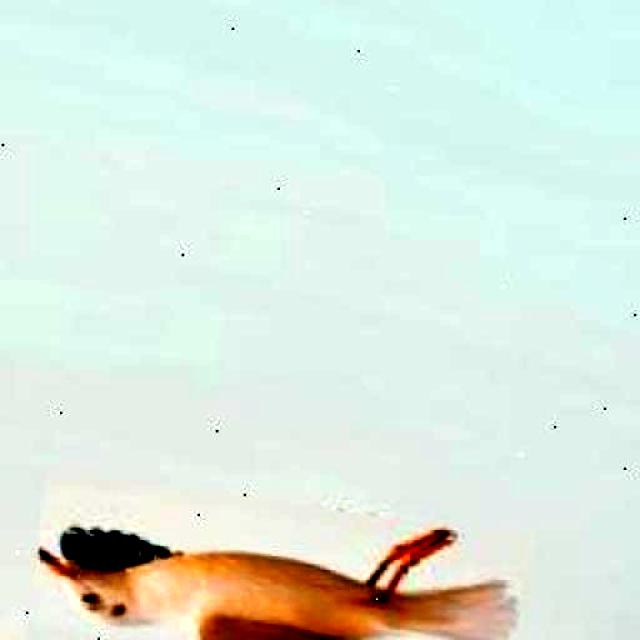airplane: (12, 469, 530, 640)
